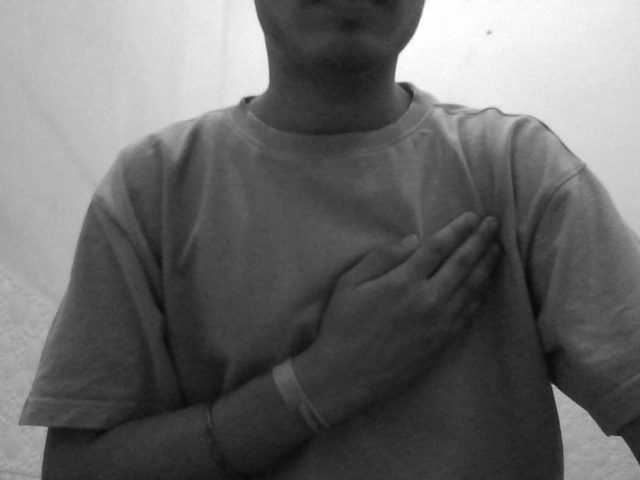Sorry: (278, 201, 580, 411)
